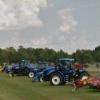Tractor: (28, 52, 88, 95)
